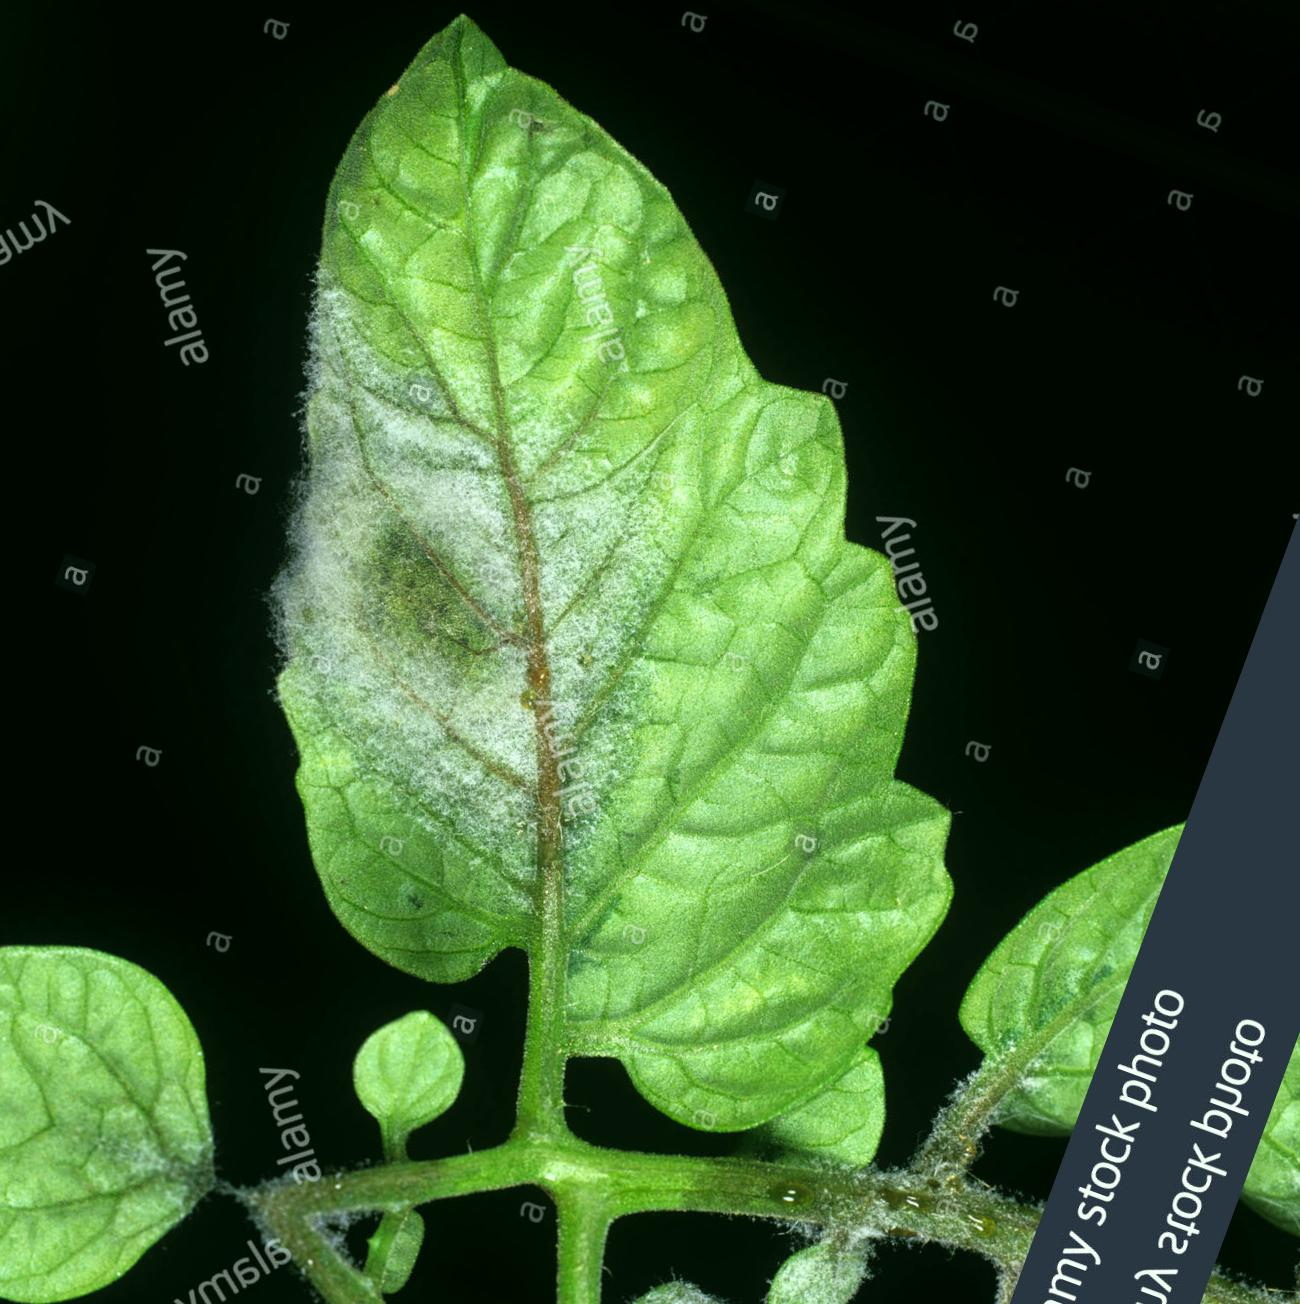Tomato leaf late blight: (35, 0, 1196, 1229)
